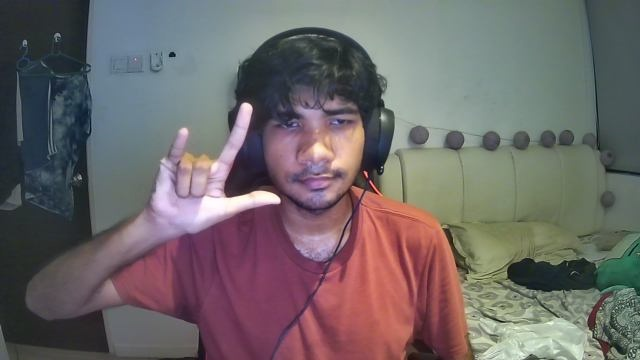I Love You: (136, 102, 284, 233)
